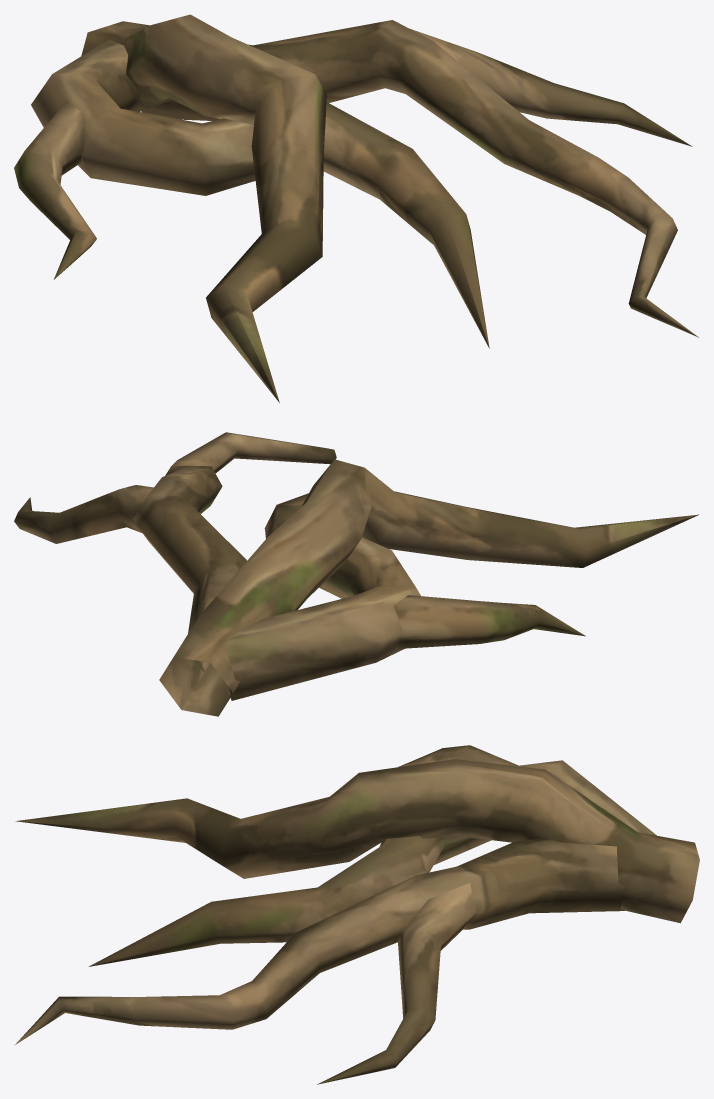
File: P_OakRoots1.obj
3 views of the same model, one above another, from view 1: azimuth 30°, elevation 25°; view 2: azimuth 150°, elevation 25°; view 3: azimuth 270°, elevation 25° (orthographic). The views are drawn at different scales.
Size of the model in its own units: 4.97 by 1.37 by 5.06.
